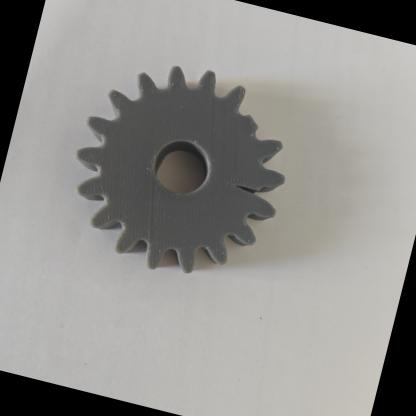defect: (197, 146, 304, 238), (209, 77, 308, 150)
gear: (43, 38, 332, 328)
